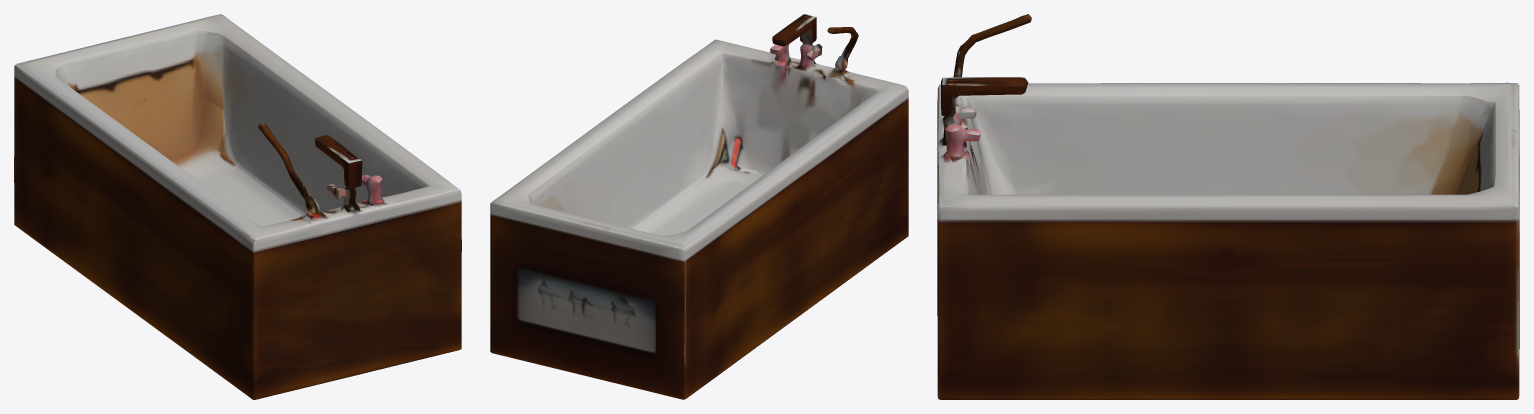
The model's file is Baignoire1_3D_textured.glb.
The picture shows the model from 3 angles, left to right: view 1: azimuth 30°, elevation 25°; view 2: azimuth 150°, elevation 25°; view 3: azimuth 270°, elevation 25°; orthographic projection. The views are drawn at different scales.
Visible parts, largest first — view 1: temp_mesh.ply; view 2: temp_mesh.ply; view 3: temp_mesh.ply.
Part boxes in pixels (x1=…): temp_mesh.ply: x1=14, y1=14, x2=461, y2=399; temp_mesh.ply: x1=490, y1=14, x2=908, y2=399; temp_mesh.ply: x1=937, y1=14, x2=1519, y2=399.
Bounding box in the file's own units: 0.7827 × 0.8554 × 1.56.
1 material, 1 textured.
